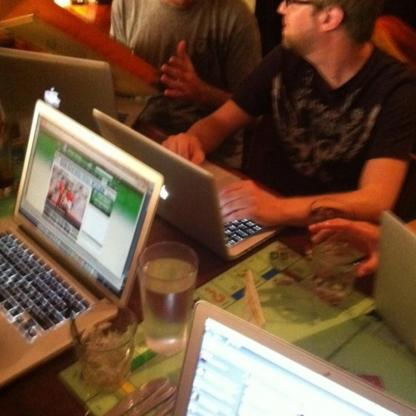board: (2, 90, 155, 393), (94, 110, 283, 260), (172, 302, 415, 416), (0, 47, 152, 134), (139, 242, 199, 358), (372, 213, 415, 351), (66, 306, 137, 389), (307, 207, 363, 305)
